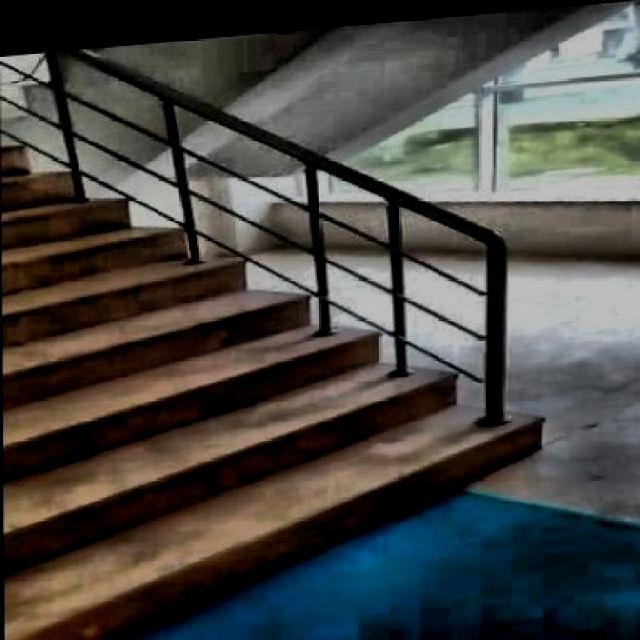stair: (1, 67, 592, 638)
